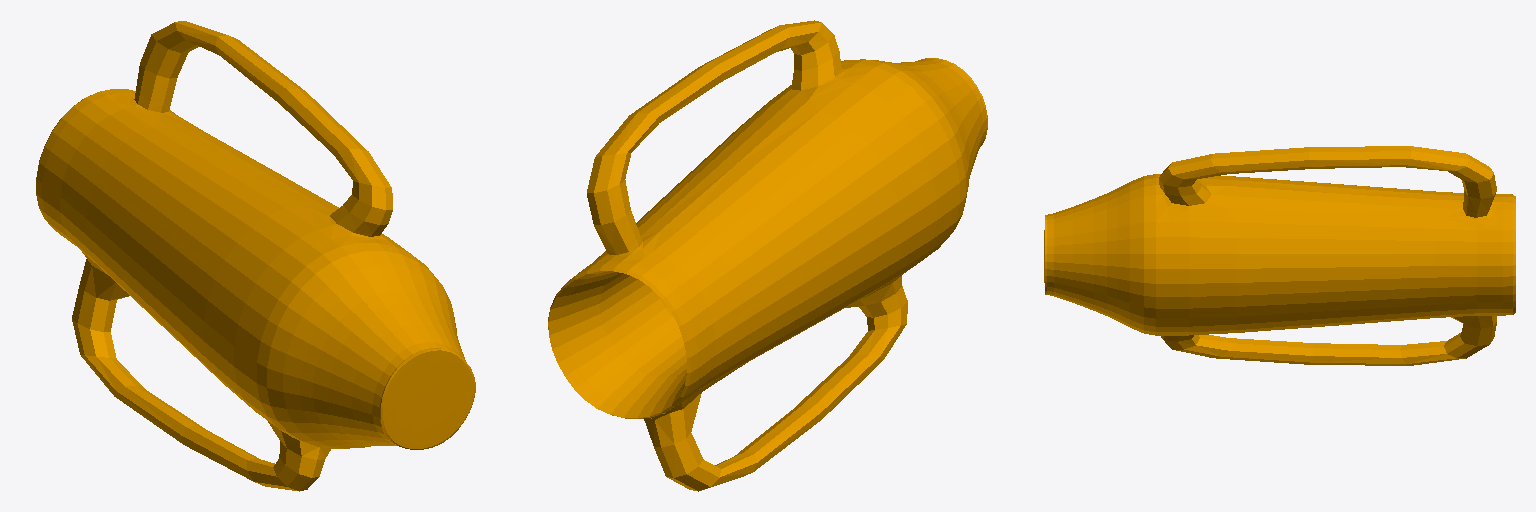
robot.urdf — 284:
<?xml version="1.0" ?>
<robot name="284">
  <link name="body">
    <visual>
      <geometry>
        <mesh filename="../shapes/284.obj"/>
      </geometry>
    </visual>
    <collision>
      <geometry>
        <mesh filename="../shapes/284.obj"/>
      </geometry>
    </collision>
  </link>
</robot>

--- Render facts (derived) ---
3 views of the same robot in one strip: view 1: azimuth 30°, elevation 25°; view 2: azimuth 150°, elevation 25°; view 3: azimuth 270°, elevation 25° (orthographic).
Model 284 with 1 links and 0 joints (none), rooted at body, posed all joints at 0.
Visible links, largest first — view 1: body; view 2: body; view 3: body.
Link boxes in pixels (left/top/right/bottom): body: left=36, top=21, right=475, bottom=491; body: left=548, top=20, right=987, bottom=491; body: left=1044, top=146, right=1515, bottom=365.
Bounding box of the posed robot: 2.46 × 7.18 × 4.2 m (x, y, z).
1 mesh visuals loaded from 1 distinct referenced files (1 OBJ).